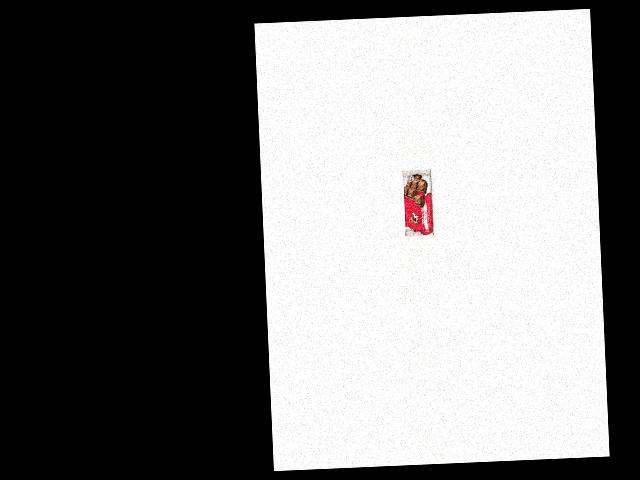chocolate: (400, 167, 439, 238)
